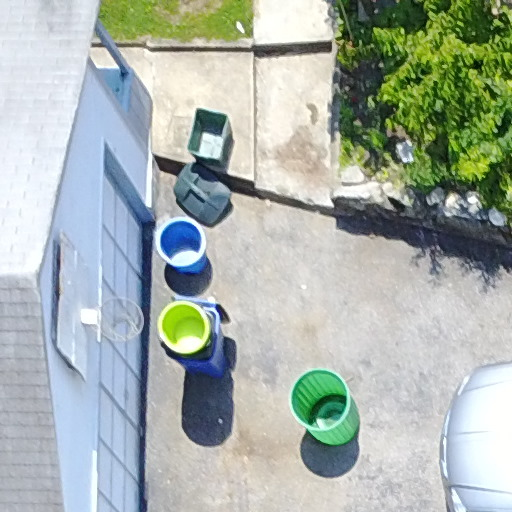garbage bin: (284, 361, 382, 459), (148, 292, 250, 385), (144, 208, 222, 299)
recycling bin: (180, 104, 259, 176)
